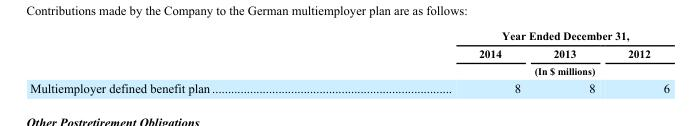table: (29, 29, 668, 94)
table column: (29, 29, 343, 94), (343, 29, 536, 94), (536, 29, 610, 94), (610, 29, 668, 94)
table column header: (29, 29, 668, 78)
table row: (29, 44, 668, 61), (29, 61, 668, 78), (29, 78, 668, 94), (29, 29, 668, 44)
table spanning cell: (343, 61, 668, 78), (343, 29, 668, 44)
